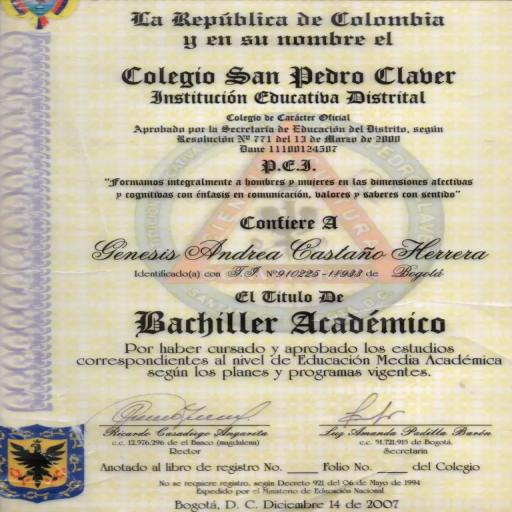bachillerato: (109, 306, 468, 337)
diploma: (0, 0, 511, 511)
firma: (94, 392, 289, 453), (313, 391, 502, 448)
institucion: (112, 60, 471, 109)
nombre: (80, 231, 495, 268)
